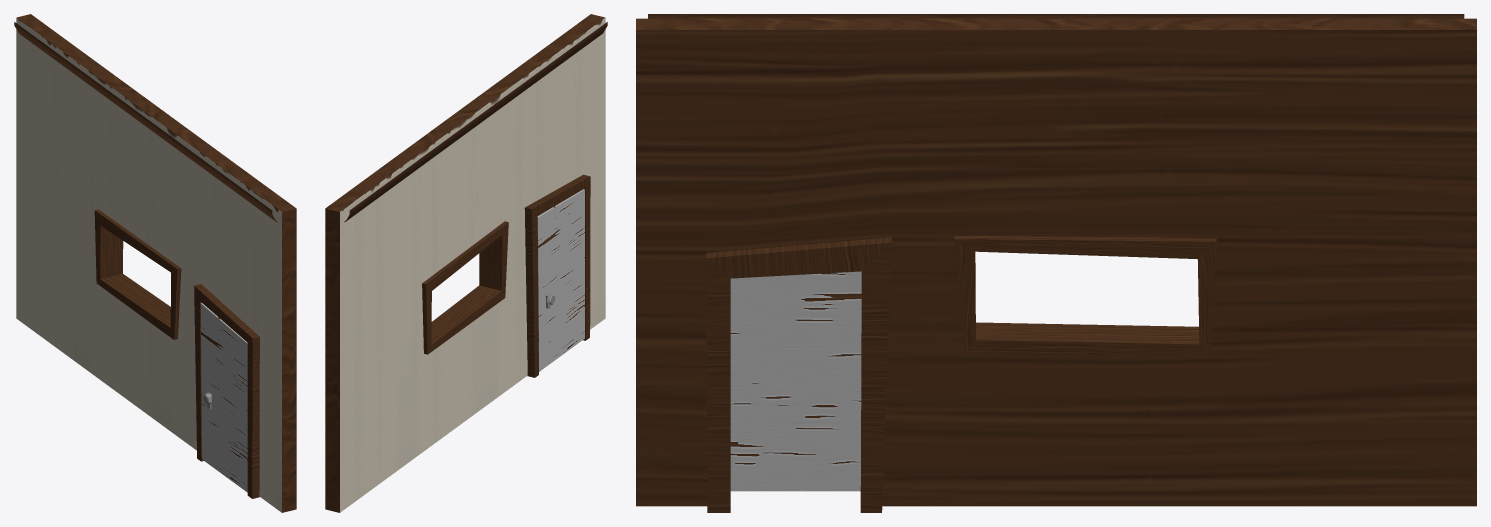
The model's file is KitchenWall_Window.fbx.
The picture shows the model from 3 angles, left to right: view 1: azimuth 30°, elevation 25°; view 2: azimuth 150°, elevation 25°; view 3: azimuth 270°, elevation 25°; orthographic projection. The views are drawn at different scales.
Visible parts, largest first — view 1: Midnight_Antics_House_Build_V1.014; view 2: Midnight_Antics_House_Build_V1.014; view 3: Midnight_Antics_House_Build_V1.014.
Boxes of the visible parts, box(x1,y1,x2,y2) form: Midnight_Antics_House_Build_V1.014: box(14, 14, 296, 512); Midnight_Antics_House_Build_V1.014: box(325, 14, 607, 512); Midnight_Antics_House_Build_V1.014: box(636, 14, 1476, 512).
Bounding box in the file's own units: 4665 × 40126 × 64003.
